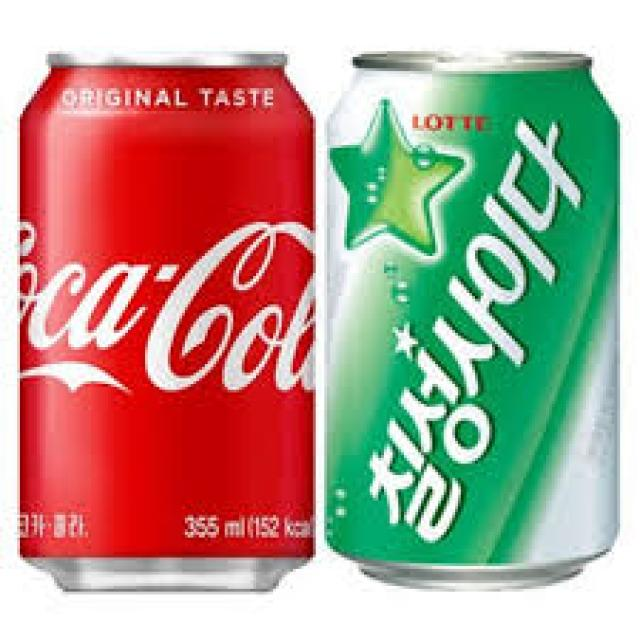Coca-Cola: (13, 42, 322, 600)
